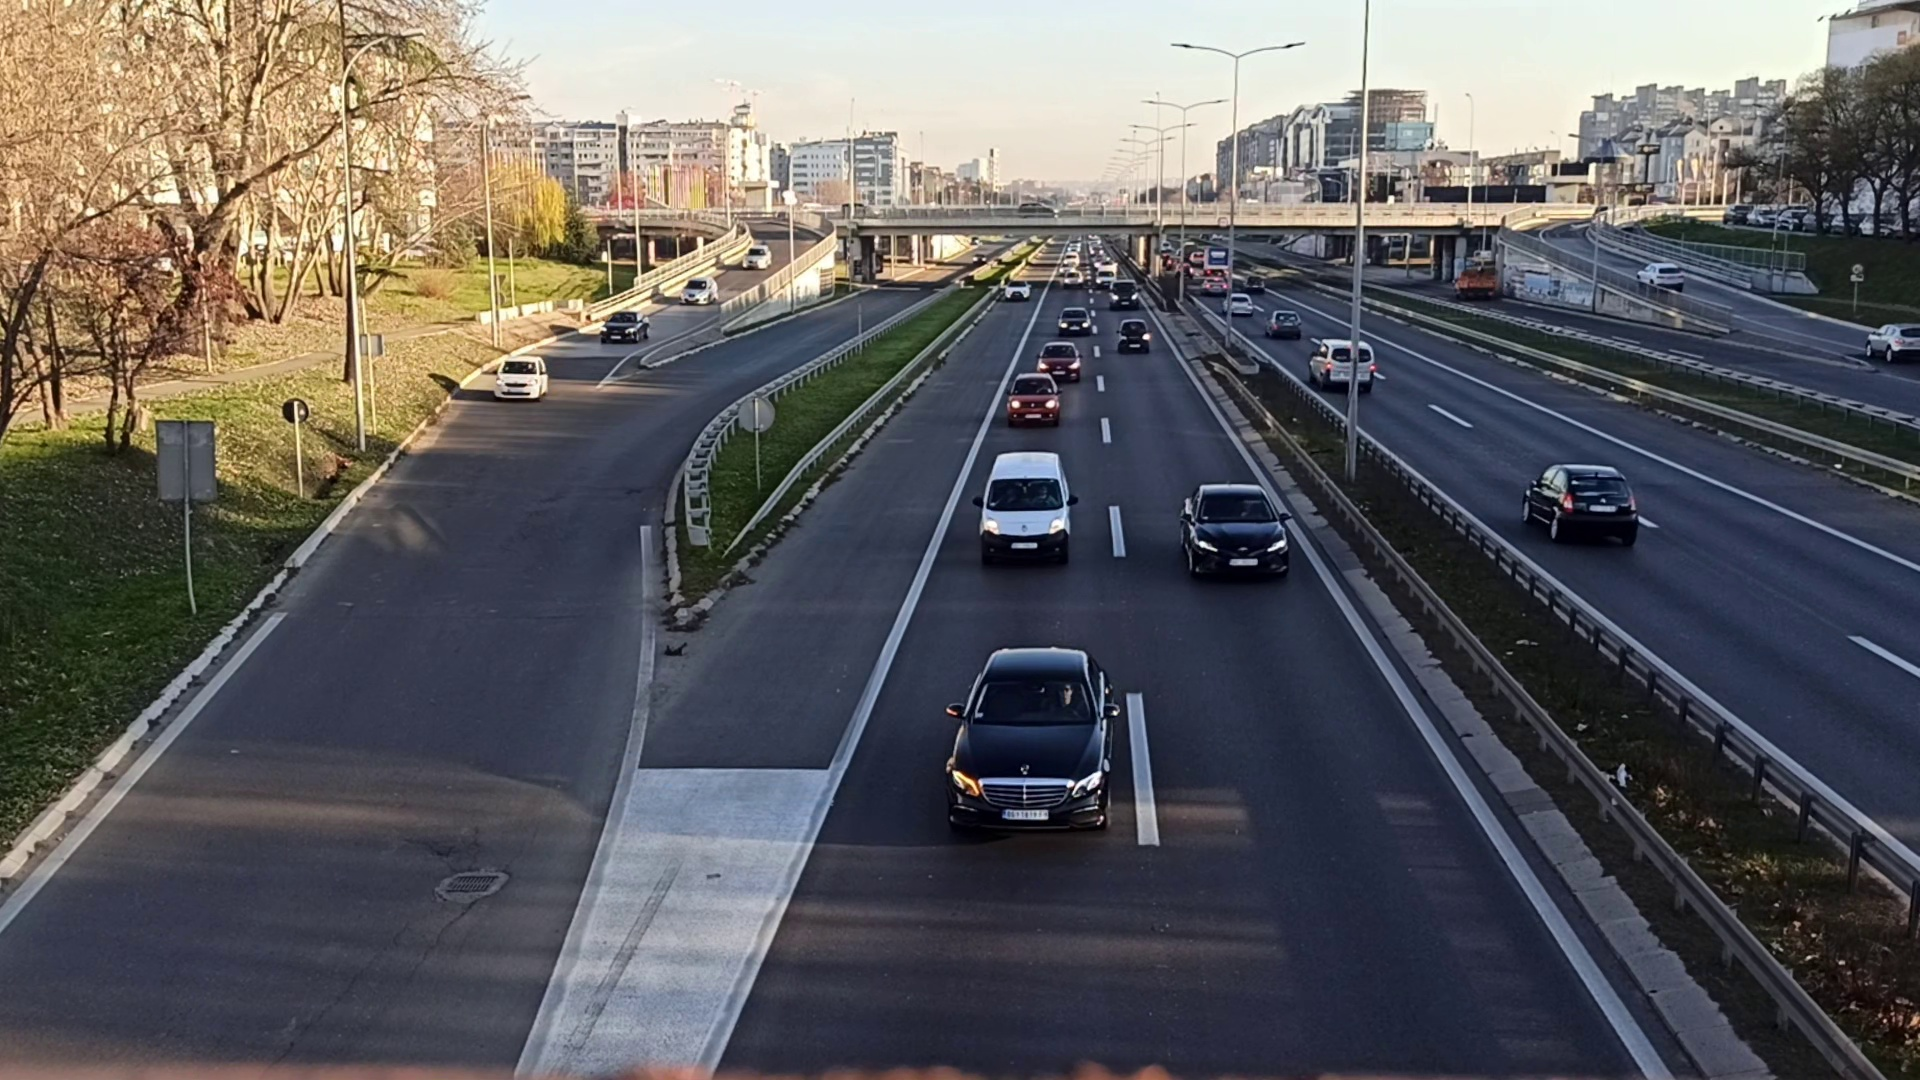car: (943, 647, 1116, 829), (1176, 483, 1292, 589), (1522, 459, 1636, 554), (980, 450, 1075, 560), (1007, 371, 1058, 425), (496, 355, 550, 400), (1035, 342, 1083, 378), (604, 309, 651, 344), (680, 278, 720, 307), (1116, 320, 1150, 353), (1265, 309, 1300, 336), (1106, 280, 1139, 307), (1059, 307, 1093, 334), (1222, 291, 1251, 316), (740, 244, 767, 269), (1005, 280, 1027, 298), (1062, 270, 1081, 285)
van: (1309, 336, 1375, 389)
